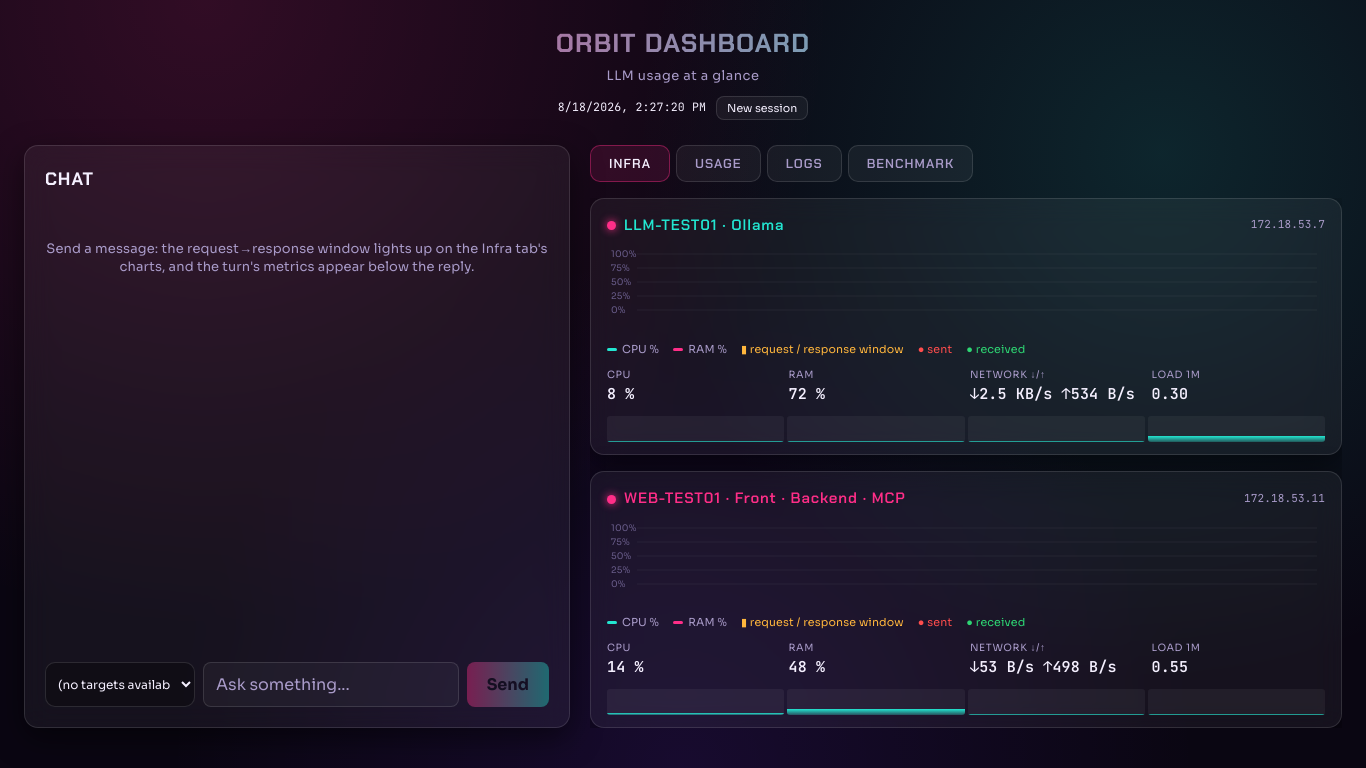
Test: App › bascule sur Logs et y affiche les sessions journalisées
Check: the text "LLM-TEST01 · Ollama" is shown, box [607,214,784,236]
Click the tab "Logs" at (804, 163), box [767,144,842,182]
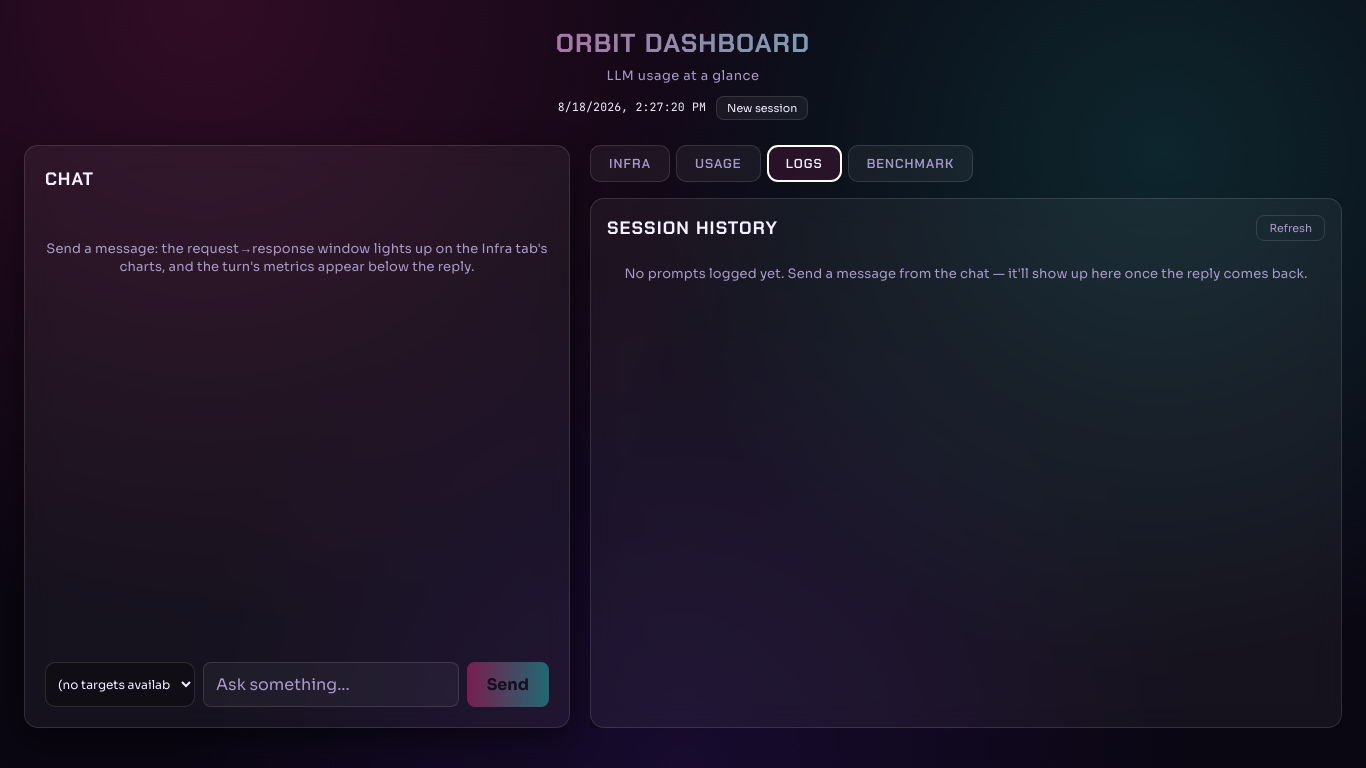
Check: the element "Chat" is shown, box [24,144,570,728]
Check: the element "Session history" is shown, box [590,198,1342,728]
Check: the text "No prompts logged yet" is shown, box [624,265,1308,282]
